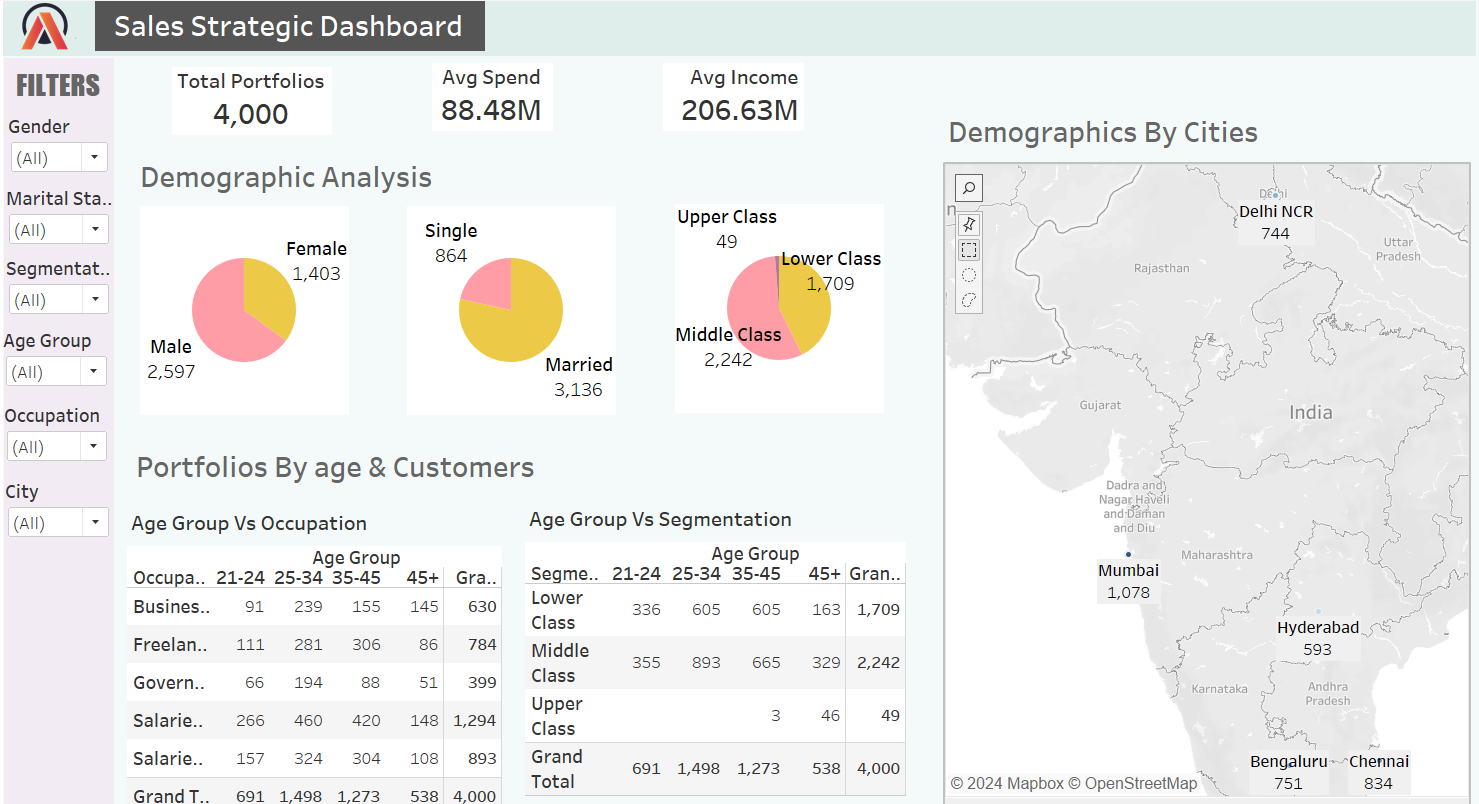

The page's visual inventory and layout, read from the dashboard file:
{"tool":"tableau","page":{"name":"Dempgraphic Analysis","canvas":[1500,900],"ordinal":1},"visuals":[{"type":"blank","box":[8,8,1484,884]},{"type":"image","param":"C:/Users/Prashant Singh/Downloads/Atliq logo.png","box":[17,11,78,68]},{"type":"blank","box":[12,12,1473,63]},{"type":"blank","box":[104,17,390,53]},{"type":"text","box":[119,24,357,39]},{"type":"blank","box":[13,77,110,808]},{"type":"worksheet","title":"Avg Spend","mark":"Automatic","box":[441,82,154,82]},{"type":"worksheet","title":"Avg Income","mark":"Automatic","box":[672,82,158,79]},{"type":"text","box":[17,85,100,39]},{"type":"worksheet","title":"Portfolios","mark":"Automatic","box":[181,86,164,74]},{"type":"text","box":[953,130,407,39]},{"type":"filter","title":"Gender Pie","param":"[federated.12fk7000fx6w68120v5100iaahm6].[none:gender:nk]","box":[17,132,103,71]},{"type":"text","box":[145,175,407,39]},{"type":"worksheet","title":"Demographics By Cities","mark":"Automatic","box":[954,183,524,668]},{"type":"filter","title":"Marital status Pie","param":"[federated.12fk7000fx6w68120v5100iaahm6].[none:marital status:nk]","box":[15,204,106,76]},{"type":"worksheet","title":"Segmentation Pie","mark":"Pie","box":[684,223,231,219]},{"type":"worksheet","title":"Gender Pie","mark":"Pie","box":[149,225,228,223]},{"type":"worksheet","title":"Marital status Pie","mark":"Pie","box":[416,225,227,223]},{"type":"filter","title":"Segmentation Pie","param":"[federated.12fk7000fx6w68120v5100iaahm6].[none:Calculation_1765692579065749508:n","box":[15,274,106,80]},{"type":"filter","title":"Age group vs occupation","param":"[federated.12fk7000fx6w68120v5100iaahm6].[none:age_group:nk]","box":[12,346,107,80]},{"type":"filter","title":"Age group vs occupation","param":"[federated.12fk7000fx6w68120v5100iaahm6].[none:occupation:nk]","box":[13,421,106,84]},{"type":"text","box":[141,465,407,39]},{"type":"filter","title":"Demographics By Cities","param":"[federated.12fk7000fx6w68120v5100iaahm6].[none:city:nk]","box":[14,497,107,87]},{"type":"worksheet","title":"Age group vs segmentation","mark":"Automatic","rows":["Calculation_1765692579065749508"],"cols":["age_group"],"box":[534,519,392,318]},{"type":"worksheet","title":"Age group vs occupation","mark":"Automatic","rows":["occupation"],"cols":["age_group"],"box":[136,523,388,333]}]}

Visuals, with their boxes on the page's 1500x900 design canvas (x1, y1, x2, y2). These are canvas units, not pixel positions in the 1479x804 screenshot, which may show the page scaled, cropped or inside an application window:
blank: BBox(8, 8, 1492, 892)
image: BBox(17, 11, 95, 79)
blank: BBox(12, 12, 1485, 75)
blank: BBox(104, 17, 494, 70)
text: BBox(119, 24, 476, 63)
blank: BBox(13, 77, 123, 885)
"Avg Spend" worksheet: BBox(441, 82, 595, 164)
"Avg Income" worksheet: BBox(672, 82, 830, 161)
text: BBox(17, 85, 117, 124)
"Portfolios" worksheet: BBox(181, 86, 345, 160)
text: BBox(953, 130, 1360, 169)
"Gender Pie" filter: BBox(17, 132, 120, 203)
text: BBox(145, 175, 552, 214)
"Demographics By Cities" worksheet: BBox(954, 183, 1478, 851)
"Marital status Pie" filter: BBox(15, 204, 121, 280)
"Segmentation Pie" worksheet (Pie marks): BBox(684, 223, 915, 442)
"Gender Pie" worksheet (Pie marks): BBox(149, 225, 377, 448)
"Marital status Pie" worksheet (Pie marks): BBox(416, 225, 643, 448)
"Segmentation Pie" filter: BBox(15, 274, 121, 354)
"Age group vs occupation" filter: BBox(12, 346, 119, 426)
"Age group vs occupation" filter: BBox(13, 421, 119, 505)
text: BBox(141, 465, 548, 504)
"Demographics By Cities" filter: BBox(14, 497, 121, 584)
"Age group vs segmentation" worksheet: BBox(534, 519, 926, 837)
"Age group vs occupation" worksheet: BBox(136, 523, 524, 856)
